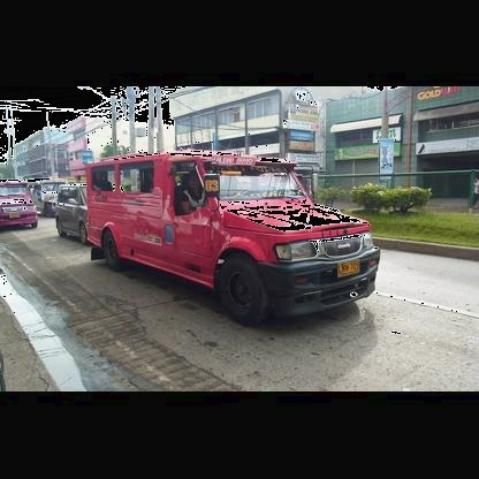car: (0, 177, 40, 231), (54, 184, 89, 243), (29, 179, 68, 217)
jeepney: (86, 142, 384, 347)
